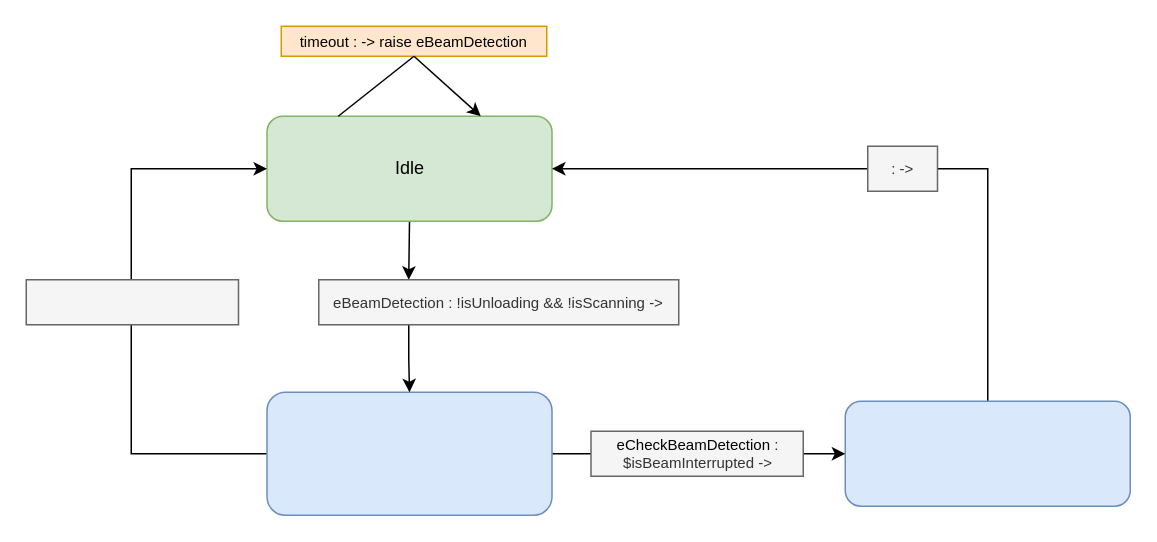
Some shapes in this 1157 by 542 pixel diagram are drawn without their labels. The box of each missing label's shape, as (x1, y1, x2, y2) in pixels:
Detected entry: action.onDetected: (844, 400, 1130, 506)
Detecting entry: invoke beamDetection, (done eCheckBeamDetection): (266, 391, 552, 515)
eCheckBeamDetection : !$isBeamInterrupted ->: (25, 278, 238, 325)
